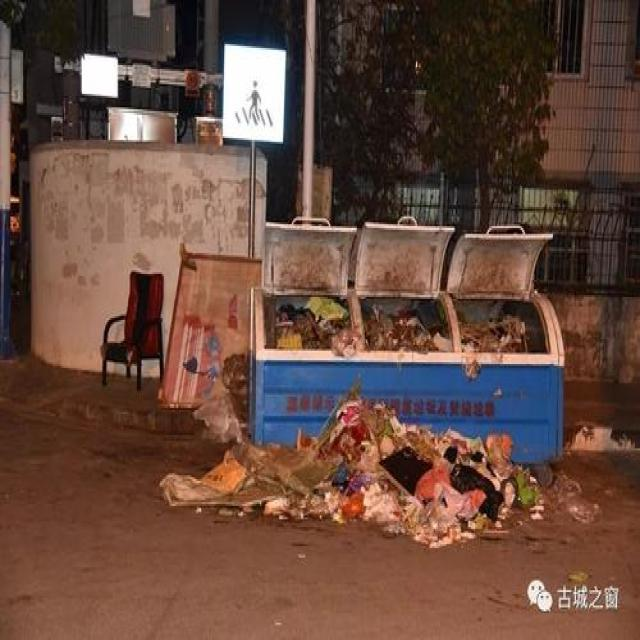garbage: (158, 381, 542, 546)
overflow: (247, 284, 563, 458)
